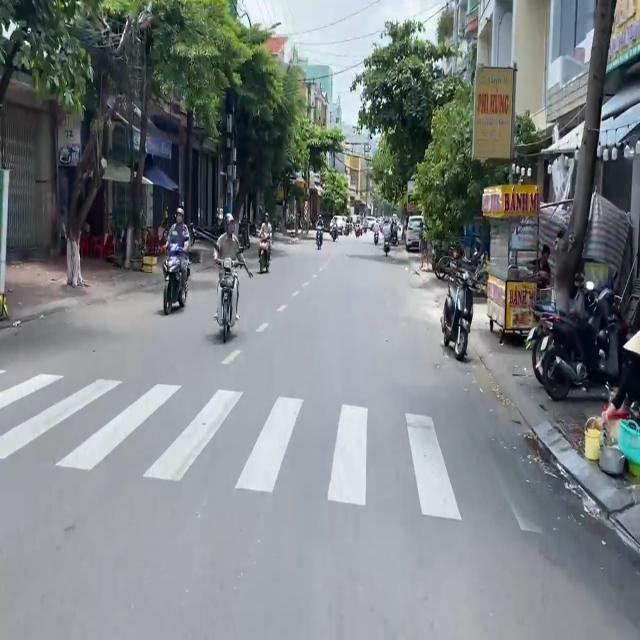walk-crossing: (1, 372, 555, 531)
